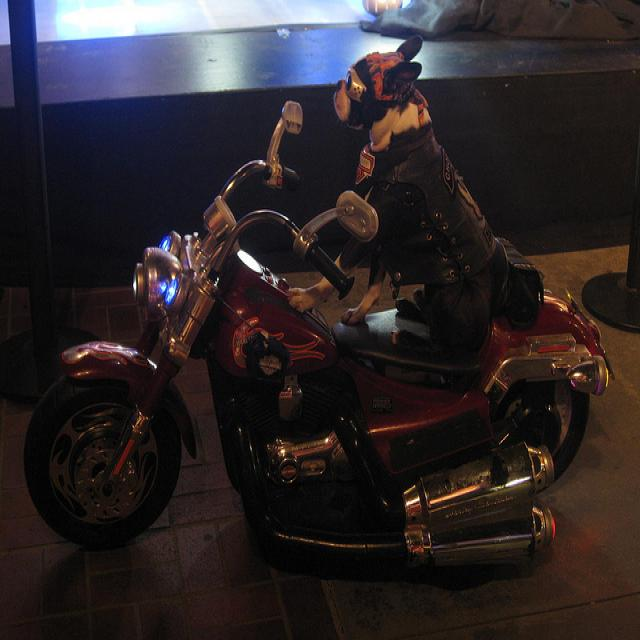Motorbike: (66, 177, 614, 589)
